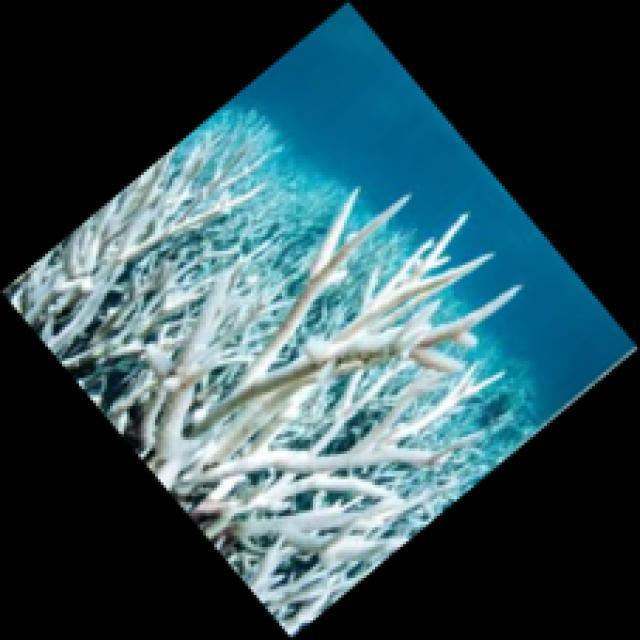Bleached: (1, 111, 524, 640)
